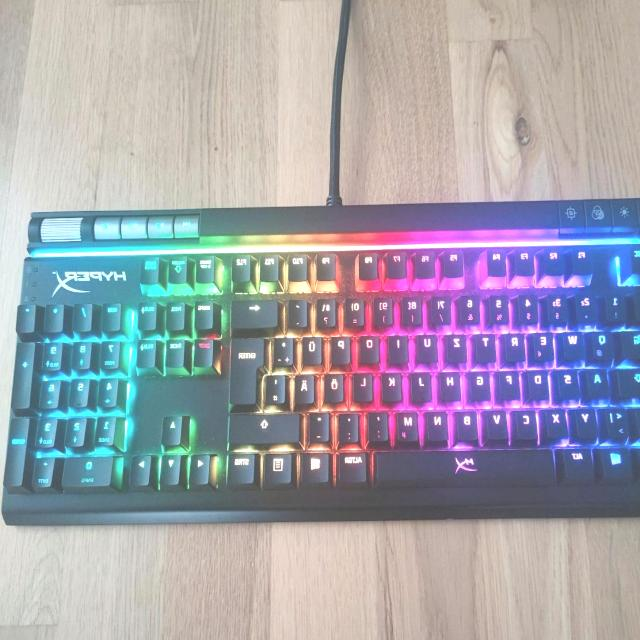0: (346, 293, 367, 325)
1: (606, 289, 628, 321)
2: (576, 289, 601, 321)
3: (548, 290, 570, 323)
4: (520, 291, 541, 323)
5: (490, 292, 513, 324)
6: (460, 291, 483, 323)
7: (431, 291, 453, 324)
8: (403, 290, 425, 325)
9: (375, 292, 396, 325)
a: (588, 366, 612, 397)
accent: (290, 294, 310, 326)
ae: (296, 371, 317, 403)
alt-left: (564, 444, 596, 480)
altgr-right: (339, 447, 369, 483)
b: (457, 406, 481, 439)
c: (517, 406, 540, 438)
caret: (631, 290, 640, 319)
comma: (369, 407, 390, 441)
d: (529, 367, 552, 399)
del: (233, 297, 281, 326)
e: (534, 329, 557, 362)
enter: (231, 334, 269, 404)
f: (500, 367, 522, 398)
g: (471, 367, 493, 399)
h: (441, 368, 463, 400)
hash: (266, 370, 288, 403)
i: (389, 331, 410, 361)
j: (413, 367, 434, 400)
k: (383, 368, 404, 400)
keyboard: (0, 224, 640, 524)
l: (355, 369, 376, 400)
less: (607, 404, 631, 440)
m: (399, 406, 421, 441)
minus: (311, 408, 332, 440)
n: (428, 406, 450, 440)
o: (360, 332, 382, 362)
oe: (325, 370, 347, 401)
p: (333, 333, 353, 363)
plus: (275, 333, 295, 365)
point: (339, 409, 361, 441)
q: (592, 328, 617, 361)
r: (506, 330, 528, 360)
s: (559, 366, 582, 399)
shift-left: (625, 405, 640, 437)
shift-lock: (618, 366, 640, 396)
shift-right: (230, 411, 302, 443)
space: (375, 446, 560, 486)
ss: (317, 295, 339, 327)
strg-left: (625, 444, 640, 478)
strg-right: (229, 449, 259, 484)
t: (477, 330, 499, 360)
tab: (623, 327, 640, 359)
u: (418, 331, 440, 361)
ue: (303, 333, 324, 363)
v: (487, 406, 510, 438)
w: (564, 329, 587, 359)
x: (546, 405, 570, 437)
y: (577, 404, 600, 438)
z: (448, 331, 469, 361)
